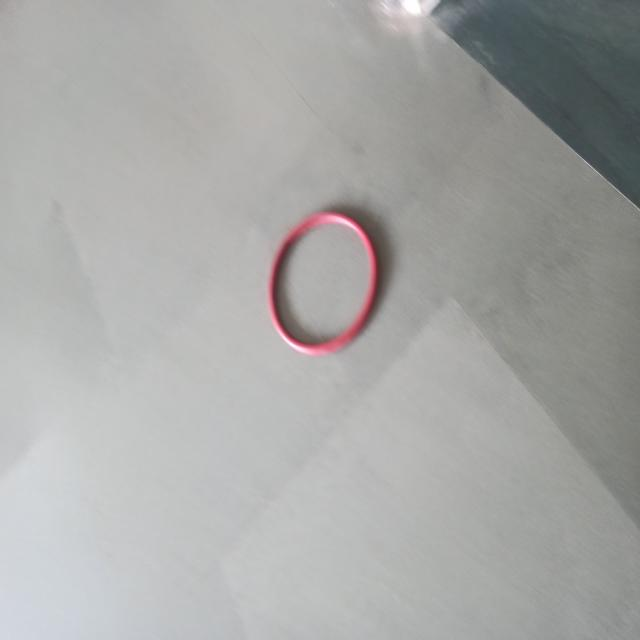daire: (268, 213, 378, 357)
